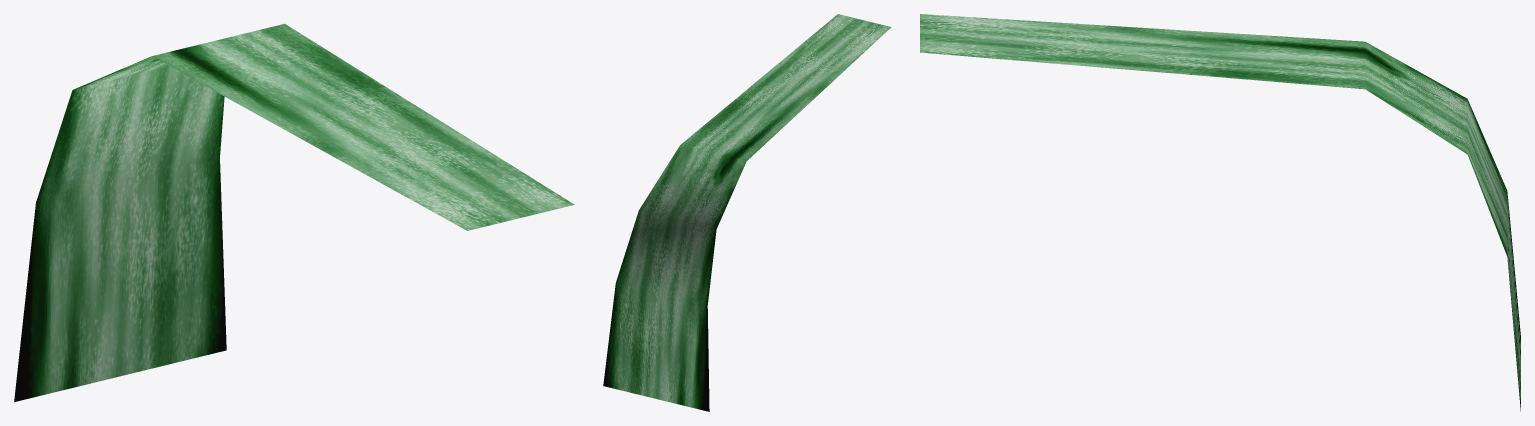
The picture shows the model from 3 angles, left to right: view 1: azimuth 30°, elevation 25°; view 2: azimuth 150°, elevation 25°; view 3: azimuth 270°, elevation 25°; orthographic projection. The views are drawn at different scales.
Visible parts, largest first — view 1: Wv09; view 2: Wv09; view 3: Wv09.
Boxes of the visible parts, left/top/right/bottom form: Wv09: left=14, top=23, right=574, bottom=402; Wv09: left=603, top=14, right=891, bottom=411; Wv09: left=920, top=14, right=1520, bottom=411.
Bounding box in the file's own units: 26.57 × 54.9 × 88.51.
